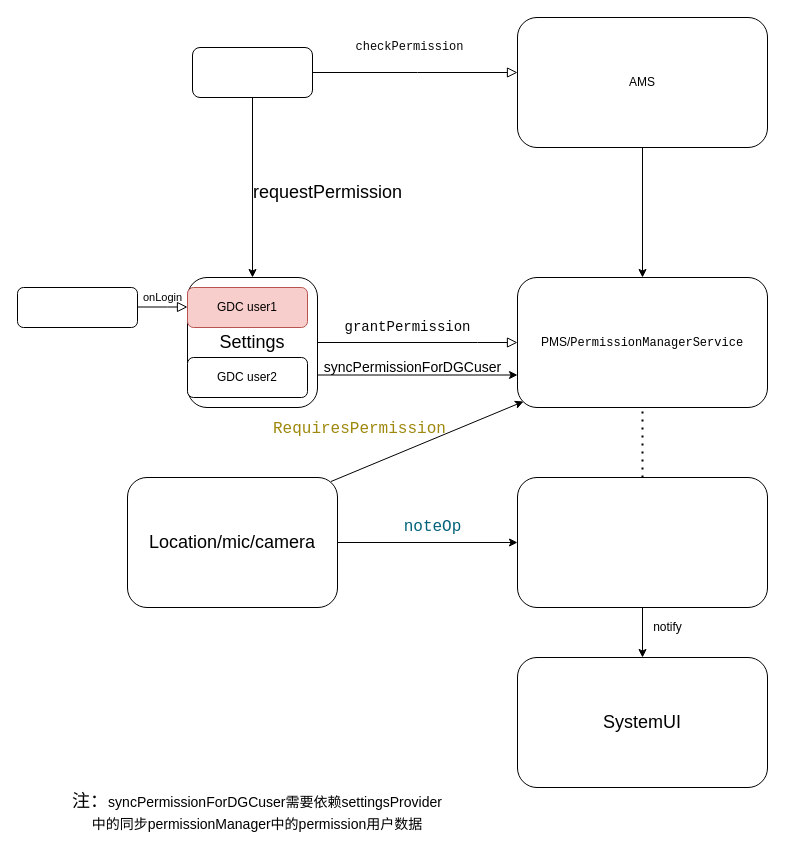
The diagram is 785 pixels wide and 855 high, and some of its shapes have lost their labels. Here are the shapes that lost their labels. From the top down, the centre of each, then its label:
At point (252, 72): "app1".
At point (77, 307): "用户登录".
At point (642, 542): "app-ops".
